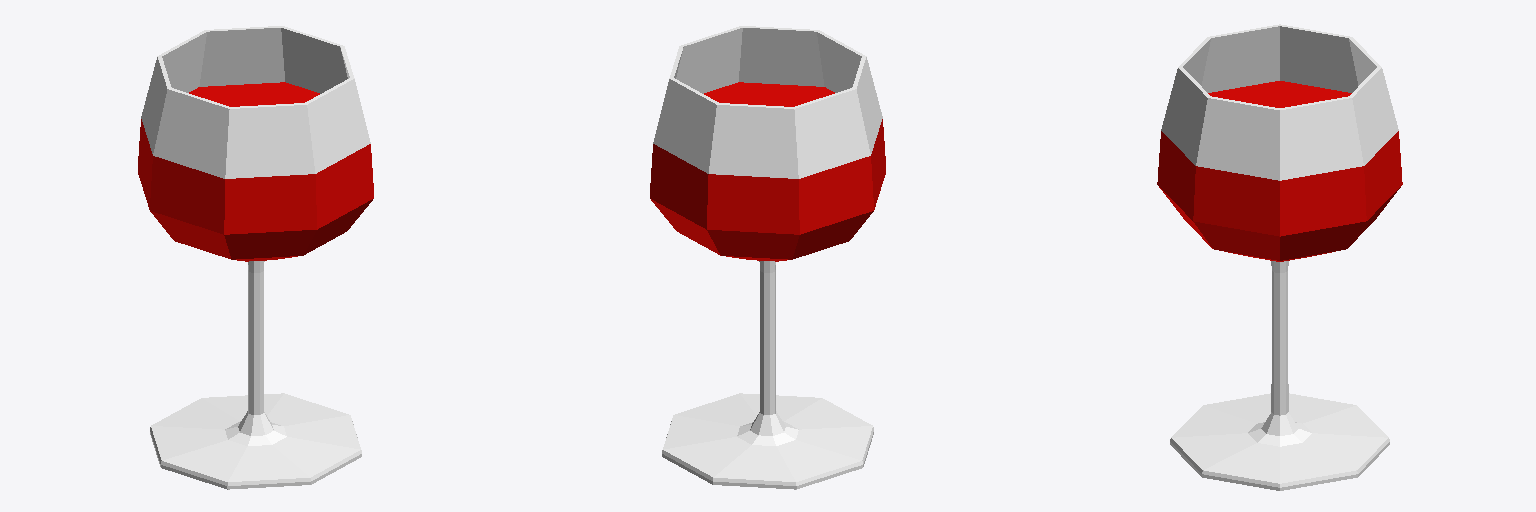
Rendered from Glass_Of_Wine_01.obj.
3 views of the same model, side by side, from view 1: azimuth 30°, elevation 25°; view 2: azimuth 150°, elevation 25°; view 3: azimuth 270°, elevation 25° (orthographic).
Visible parts, largest first — view 1: Circle.010; view 2: Circle.010; view 3: Circle.010.
Part boxes in pixels (left/top/right/bottom): Circle.010: left=138, top=26, right=373, bottom=489; Circle.010: left=650, top=26, right=885, bottom=489; Circle.010: left=1157, top=24, right=1402, bottom=490.
Size of the model in its own units: 5.87 by 9.96 by 5.87.